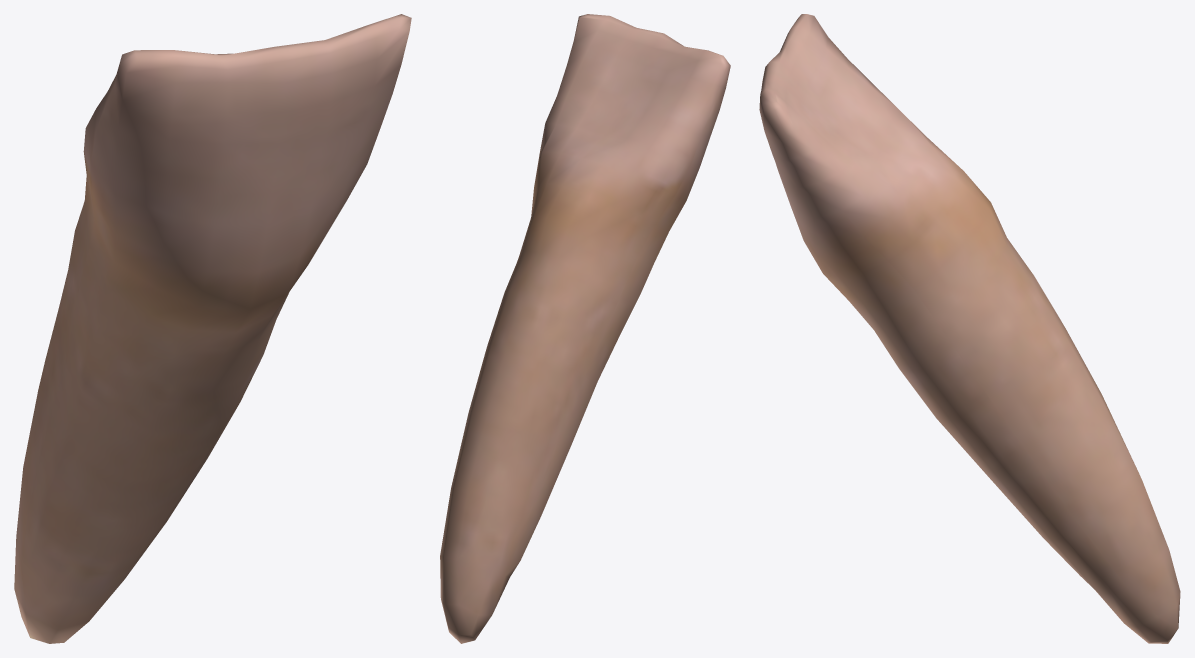
3 views of the same model, side by side, from view 1: azimuth 30°, elevation 25°; view 2: azimuth 150°, elevation 25°; view 3: azimuth 270°, elevation 25° (orthographic). The views are drawn at different scales.
Parts seen in each view (by area): view 1: t_41; view 2: t_41; view 3: t_41.
Part boxes in pixels (x1,y1,x2,y2): t_41: [14, 14, 411, 643]; t_41: [440, 14, 730, 643]; t_41: [759, 14, 1180, 643].
Size of the model in its own units: 0.0566 by 0.1645 by 0.1096.
1 material, 1 textured.
